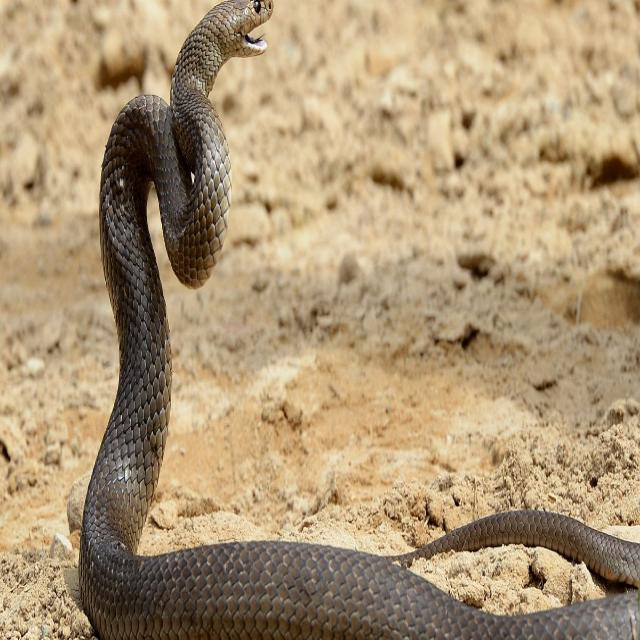Snake: (72, 0, 640, 640)
